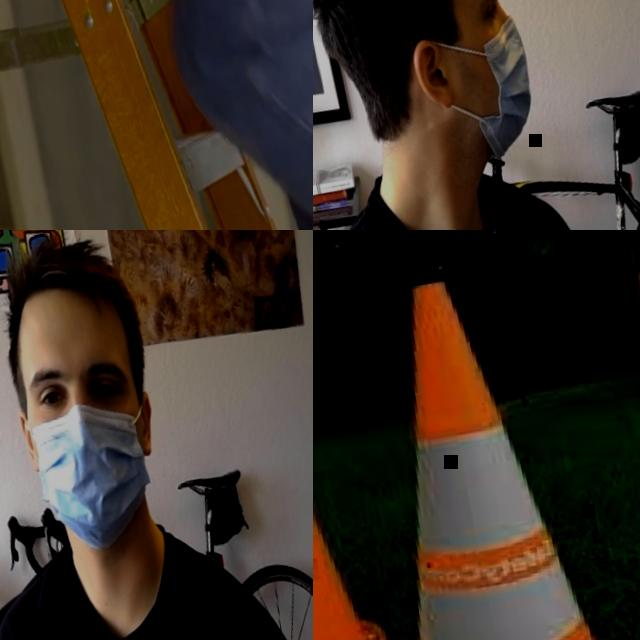Mask: (24, 397, 165, 562), (431, 11, 546, 174)
NO-Hardhat: (0, 234, 138, 351)
NO-Safety Vest: (11, 525, 285, 640), (322, 168, 602, 230)
Person: (0, 230, 313, 640), (313, 0, 640, 230), (117, 0, 313, 230)
Safety Cone: (313, 255, 640, 640), (313, 324, 406, 640), (593, 258, 640, 640)
